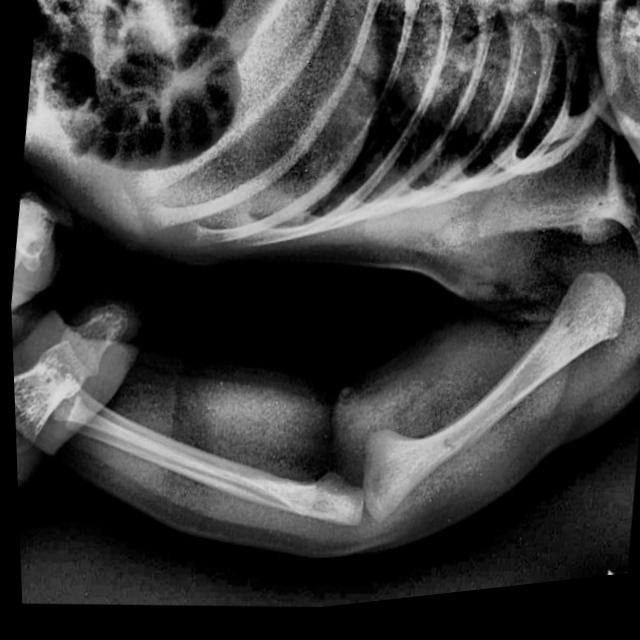fracture: (429, 438, 457, 469)
